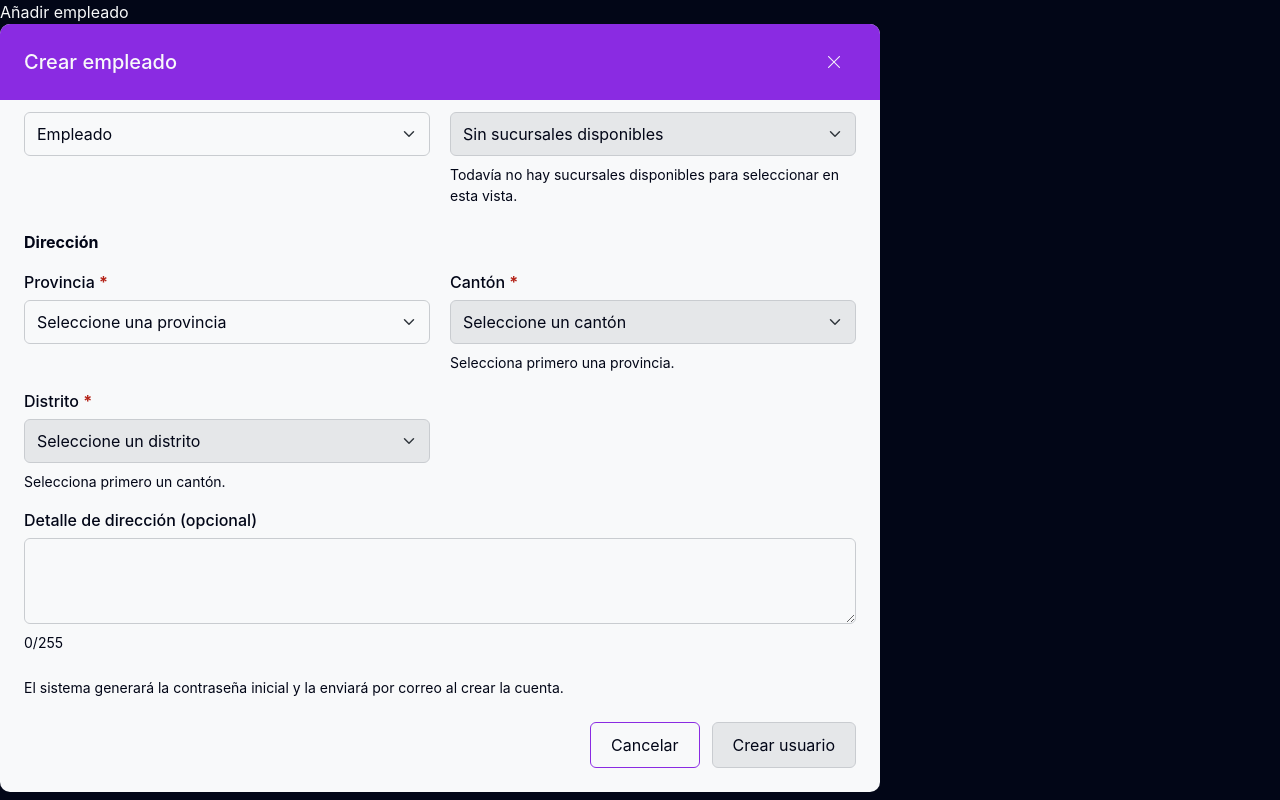
Test: CreateUserDialog › filters cantons and districts and clears dependent selections when a parent changes
(page scrolled)
Type "Casa de prueba" into the text box named "details". click: (440, 581)
box: [24,538,856,624]
Select "Provincia A" in the dropdown named "provinceId". click: (227, 322)
box: [24,300,430,344]
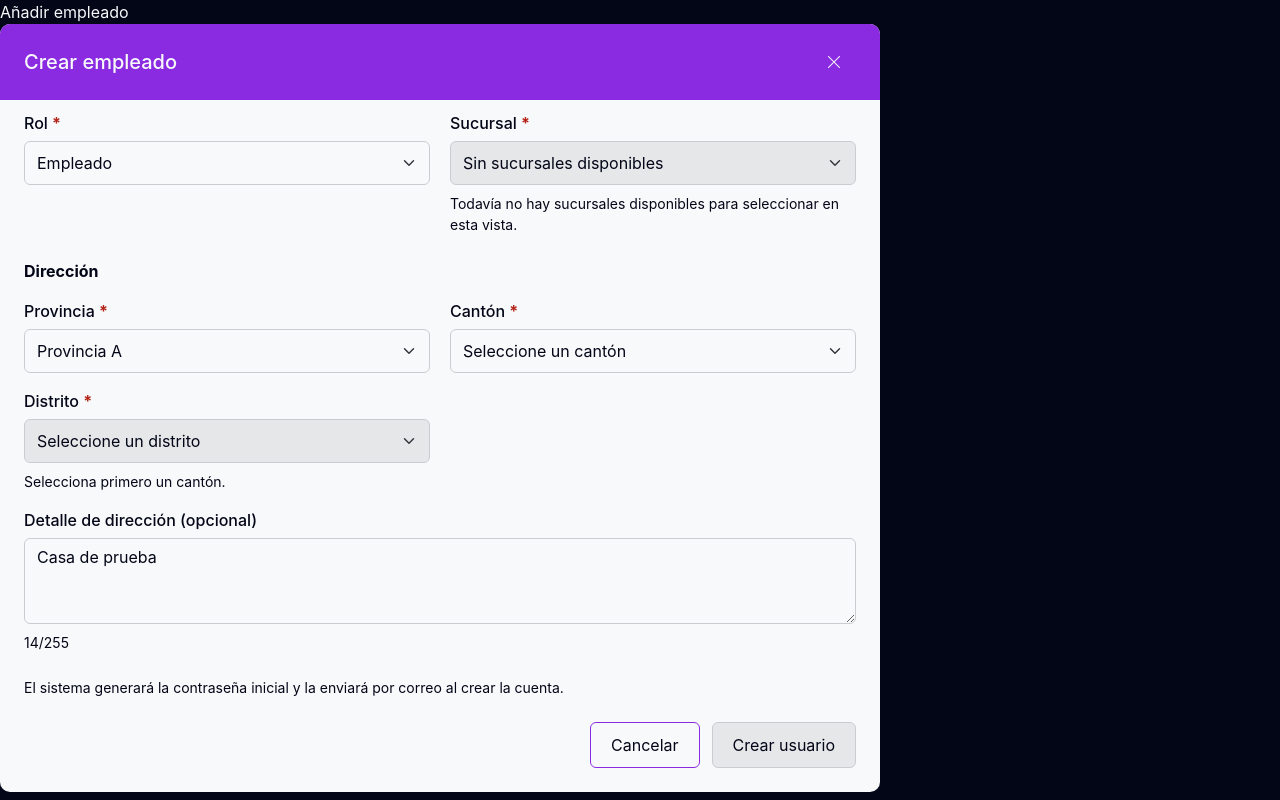
Select "Cantón A1" in the dropdown named "cantonId". click: (653, 351)
box: [450,329,856,373]
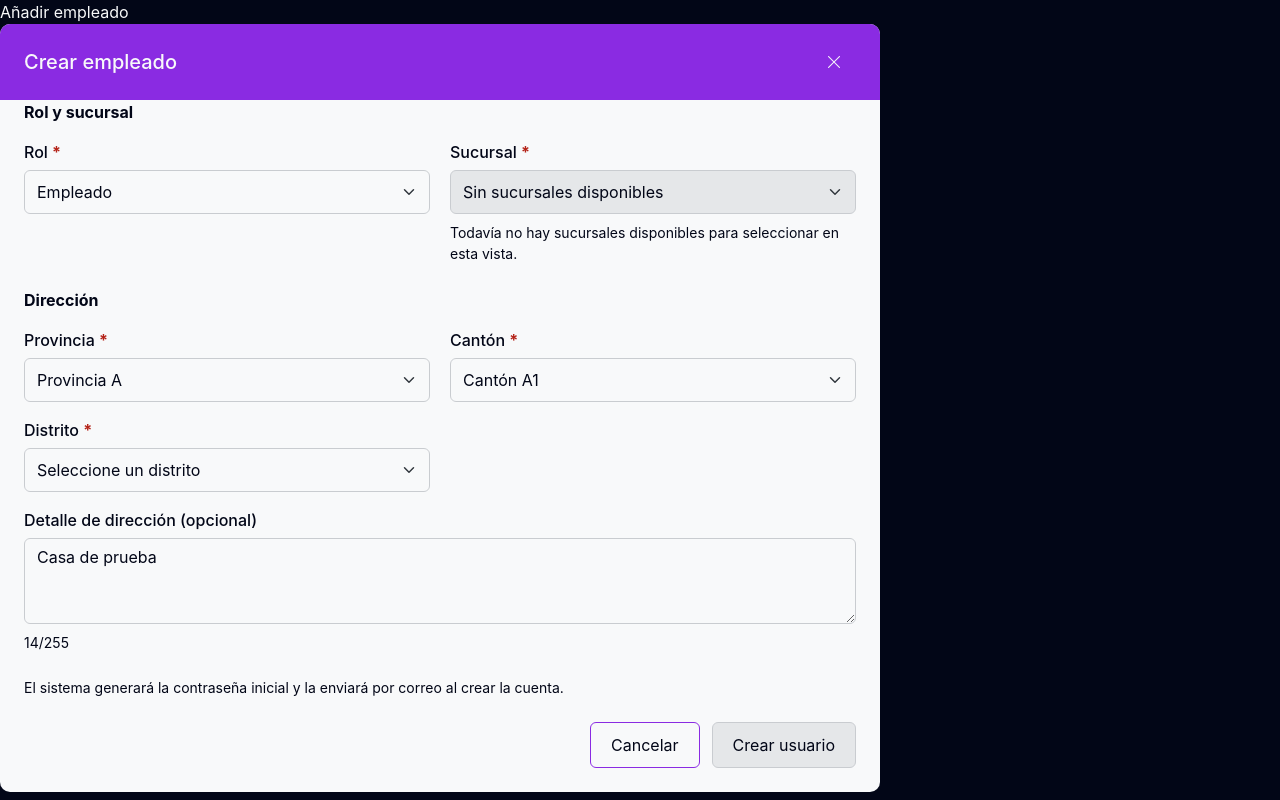
Select "Distrito A1" in the dropdown named "districtId". click: (227, 470)
box: [24,448,430,492]
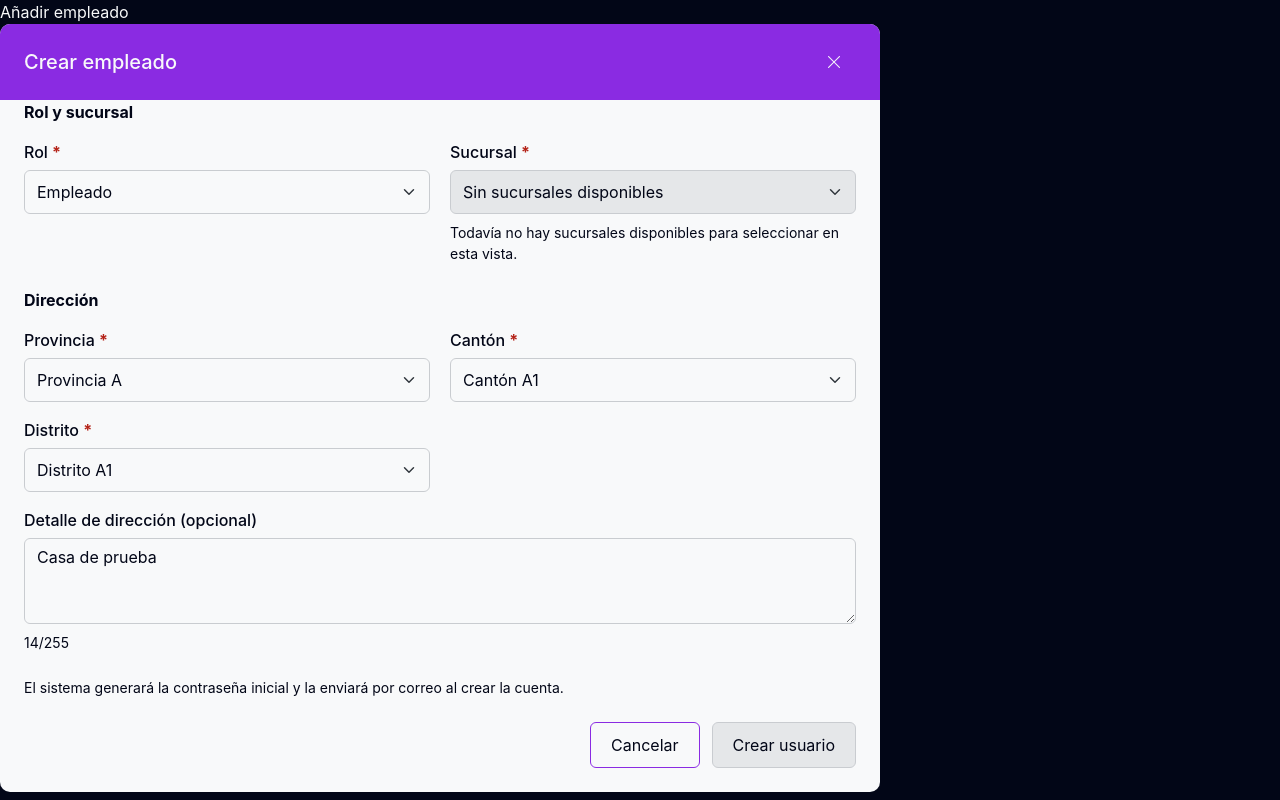
Select "Cantón A2" in the dropdown named "cantonId". click: (653, 380)
box: [450,358,856,402]
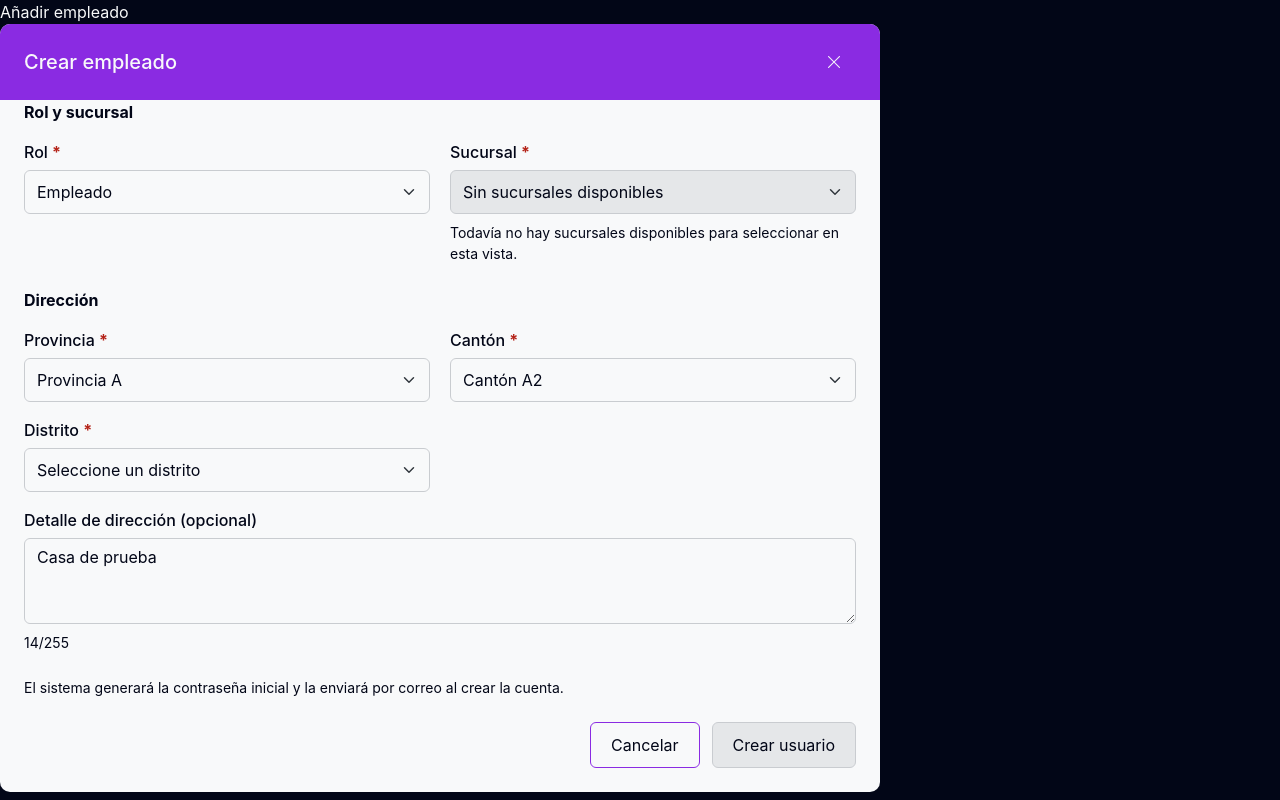
Select "Distrito A2" in the dropdown named "districtId". click: (227, 470)
box: [24,448,430,492]
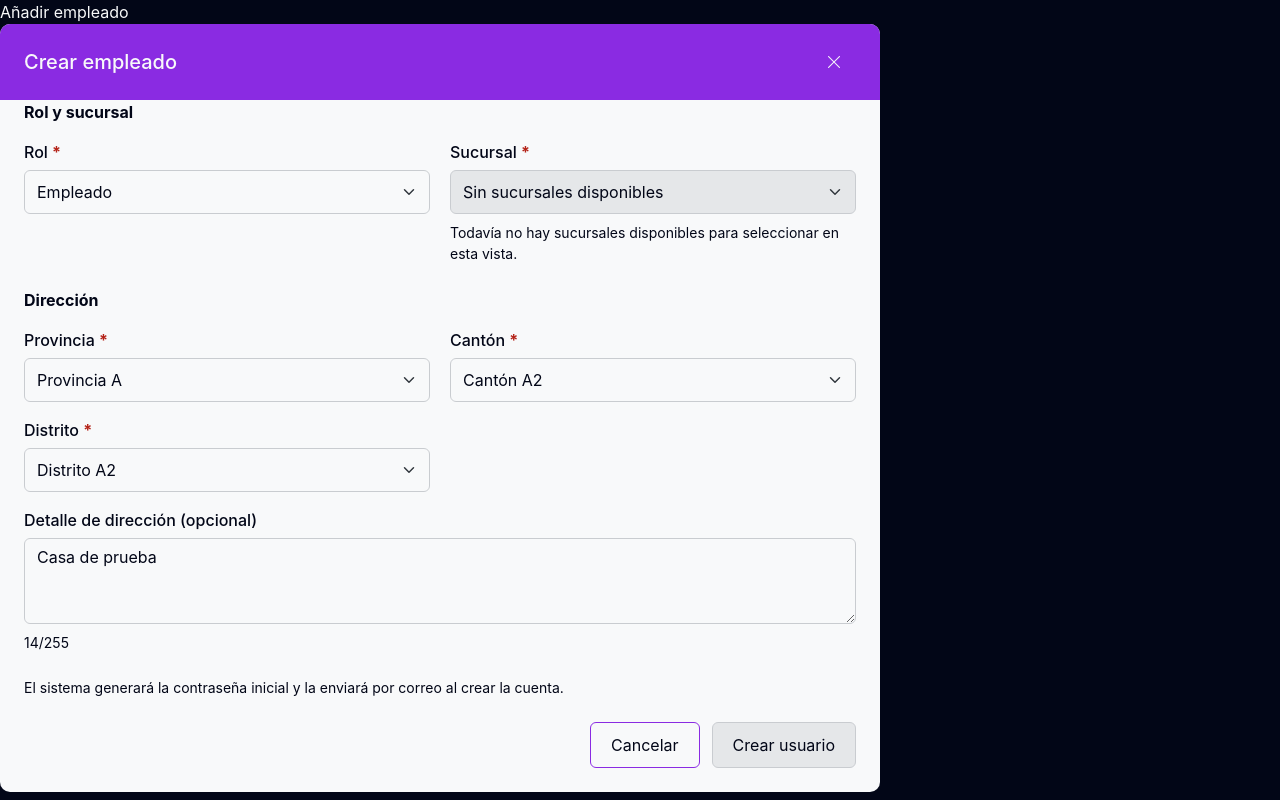
Select "Provincia B" in the dropdown named "provinceId". click: (227, 380)
box: [24,358,430,402]
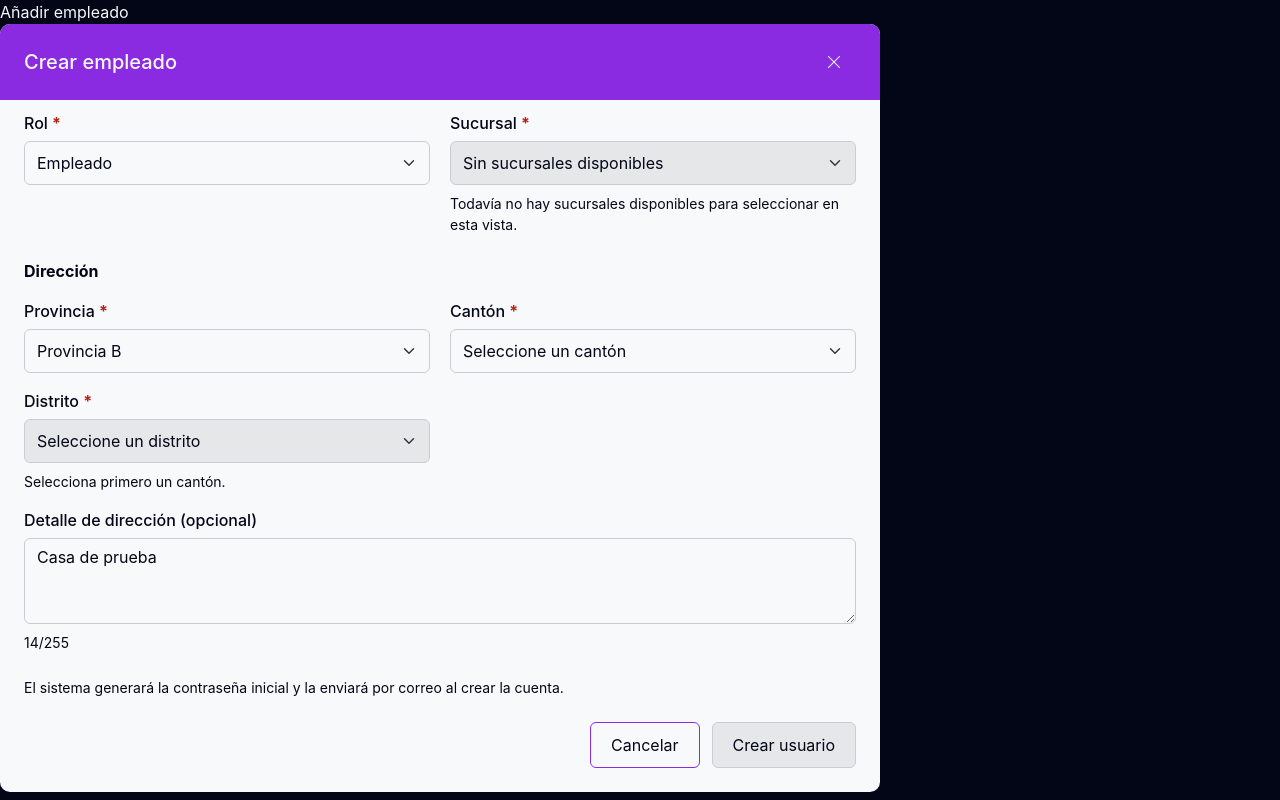
Expected: the dropdown named "districtId" is disabled, [24,419,430,463]
